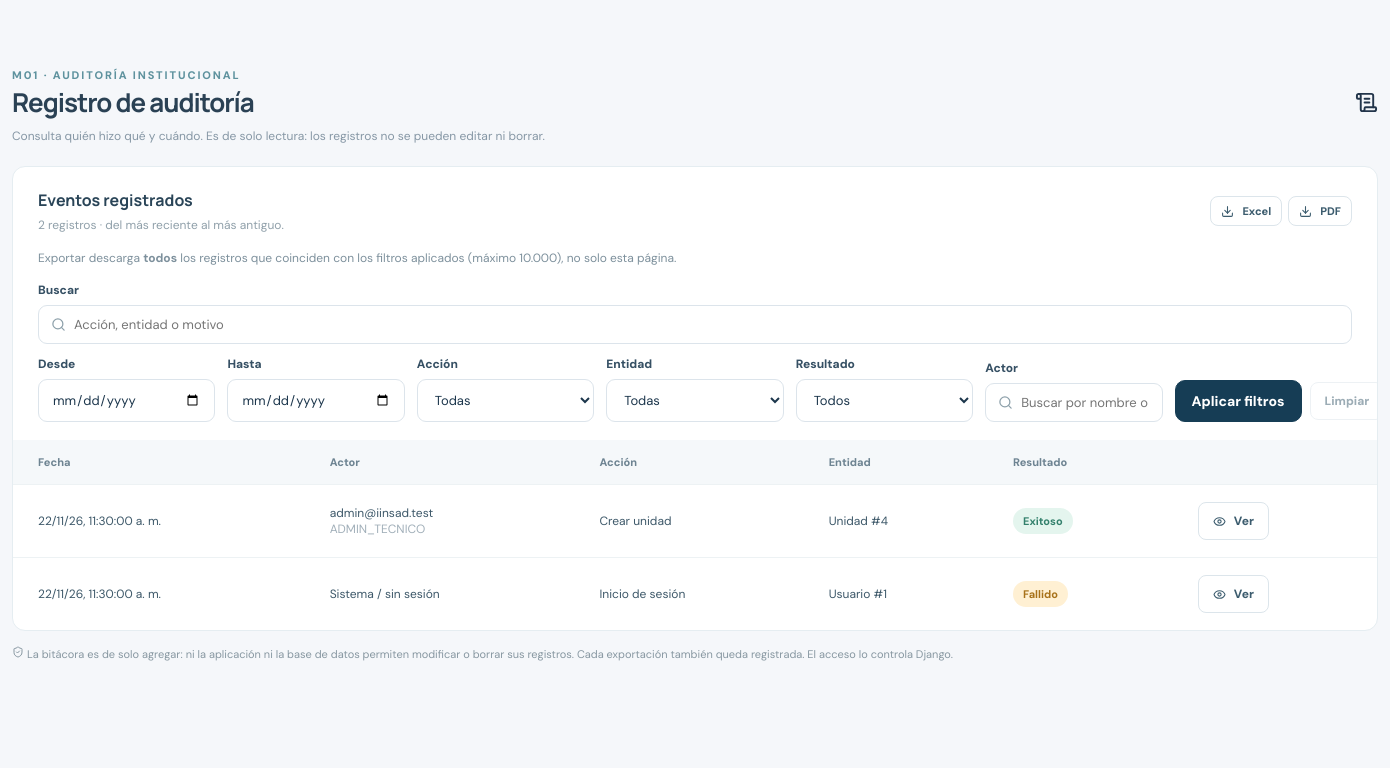
Test: AuditPage › exportar › descarga el Excel con los filtros aplicados (sin página) y confirma
The image size is (1390, 768).
Expected: the table is shown, [13, 440, 1377, 630]
Select "Fallido" in the dropdown labelled "Resultado" at (884, 401), box [796, 379, 973, 422]
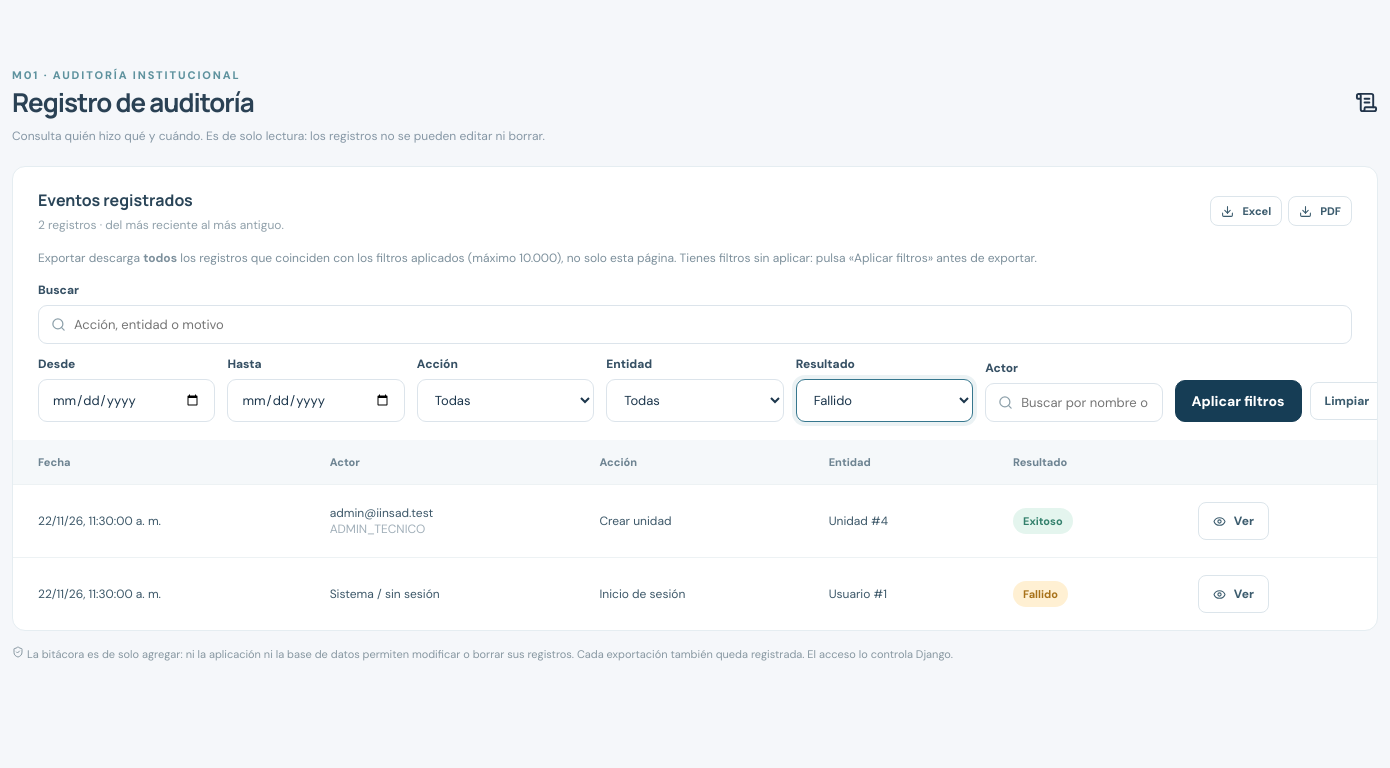
Click the button "Aplicar filtros" at (1238, 401), box [1175, 380, 1302, 422]
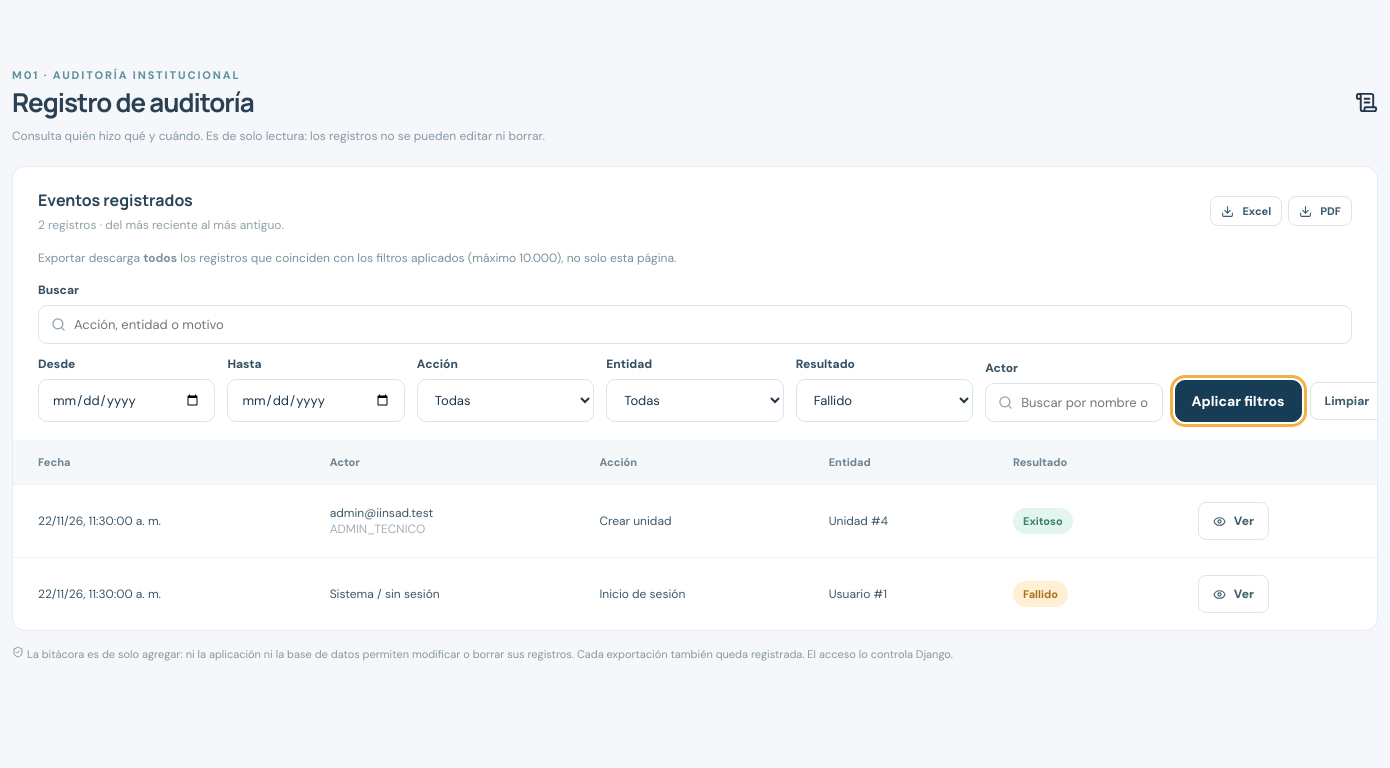
Click the button with aria-label "Exportar a Excel" at (1246, 211), box [1210, 196, 1282, 226]
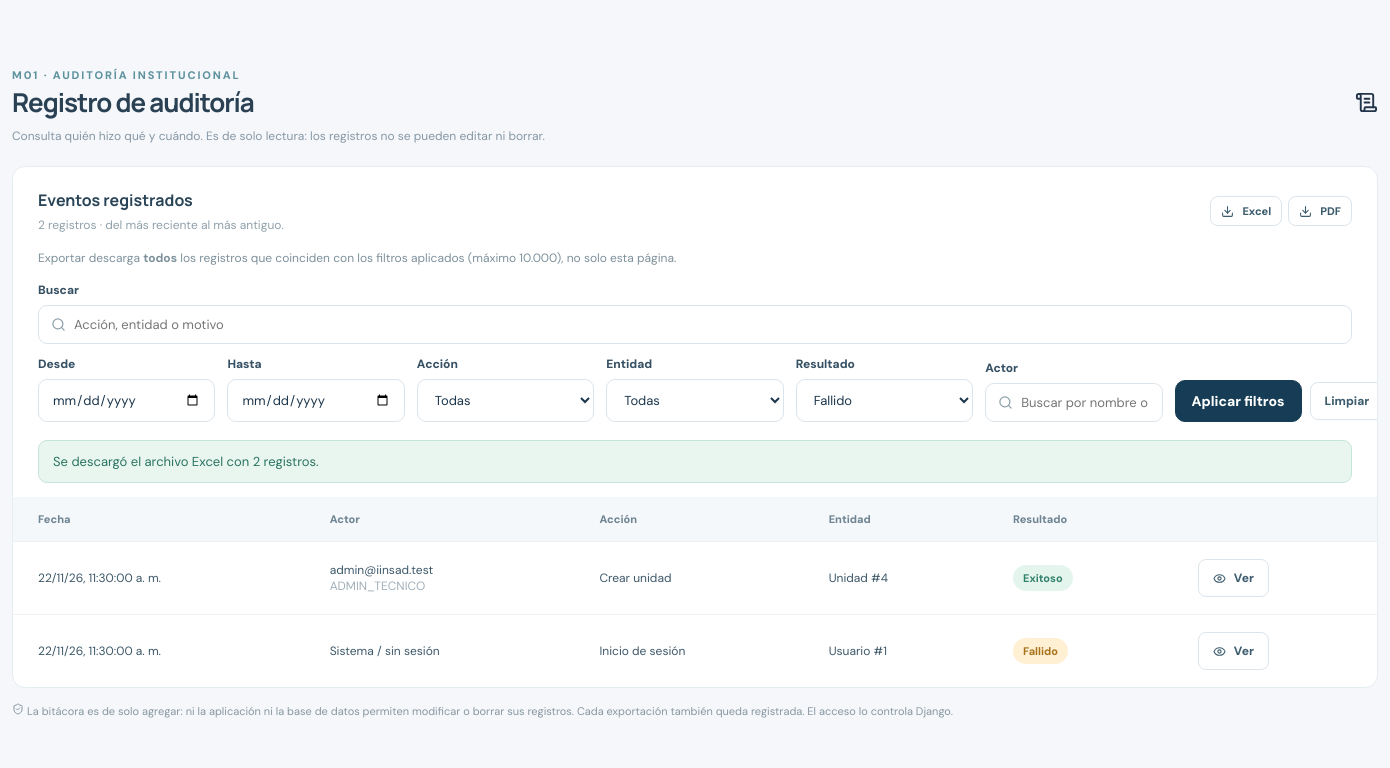
Expected: the text "Se descargó el archivo Excel con 2 registros." is shown, [38, 440, 1352, 483]
